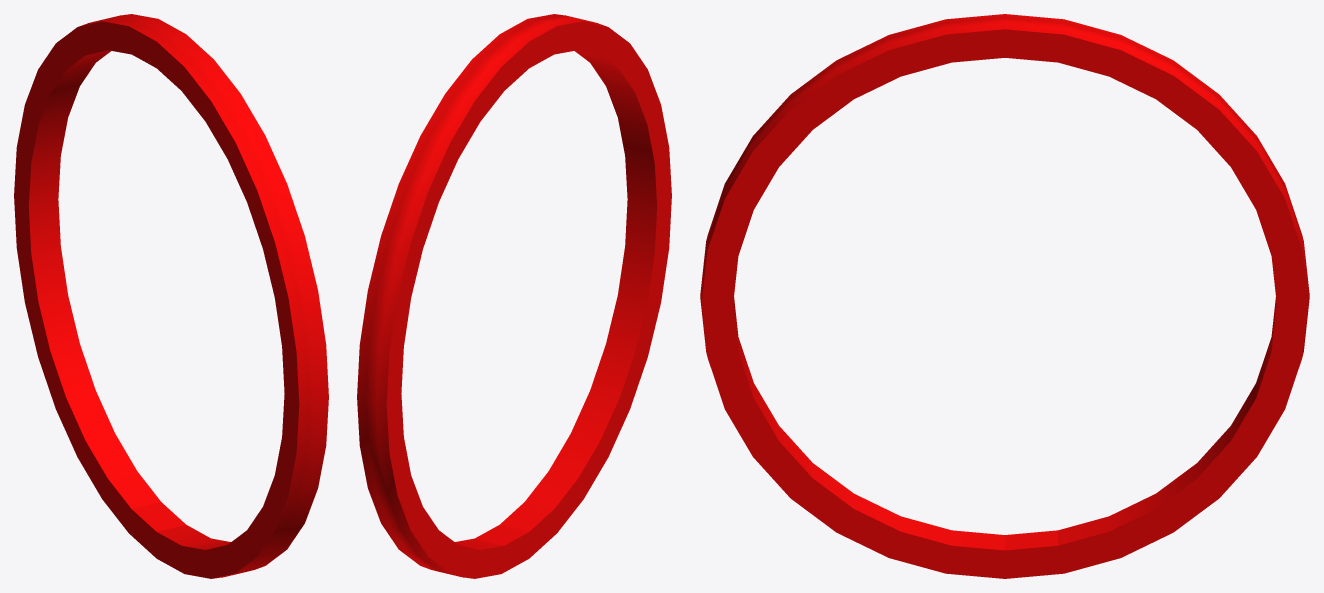
The model's file is Axis_Rotation.FBX.
3 renders of one model, left to right at view 1: azimuth 30°, elevation 25°; view 2: azimuth 150°, elevation 25°; view 3: azimuth 270°, elevation 25°, orthographic. The views are drawn at different scales.
Parts seen in each view (by area): view 1: Rotation; view 2: Rotation; view 3: Rotation.
Part boxes in pixels (x1,y1,x2,y2): Rotation: [14, 14, 328, 578]; Rotation: [357, 14, 671, 578]; Rotation: [700, 14, 1309, 578].
Bounding box in the file's own units: 12 × 201 × 201.
